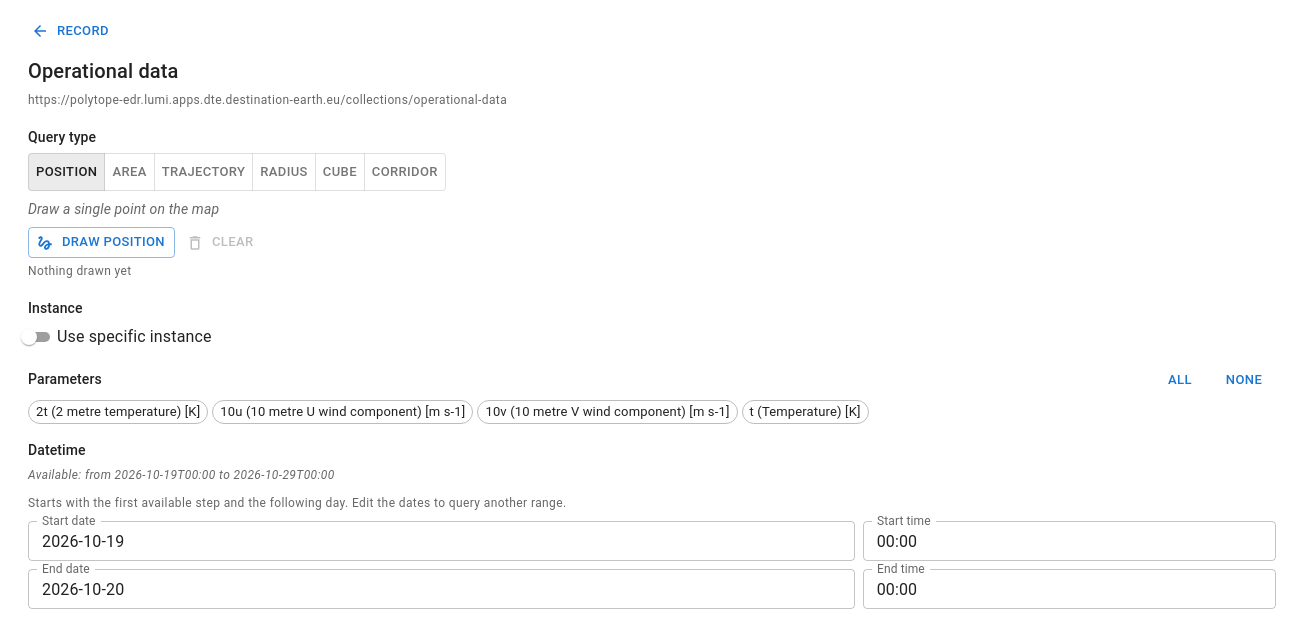
EDR page › pressure-level parameters ask for a level and add z
Click the button "Draw position" at (101, 243), box left=28, top=228, right=175, bottom=258
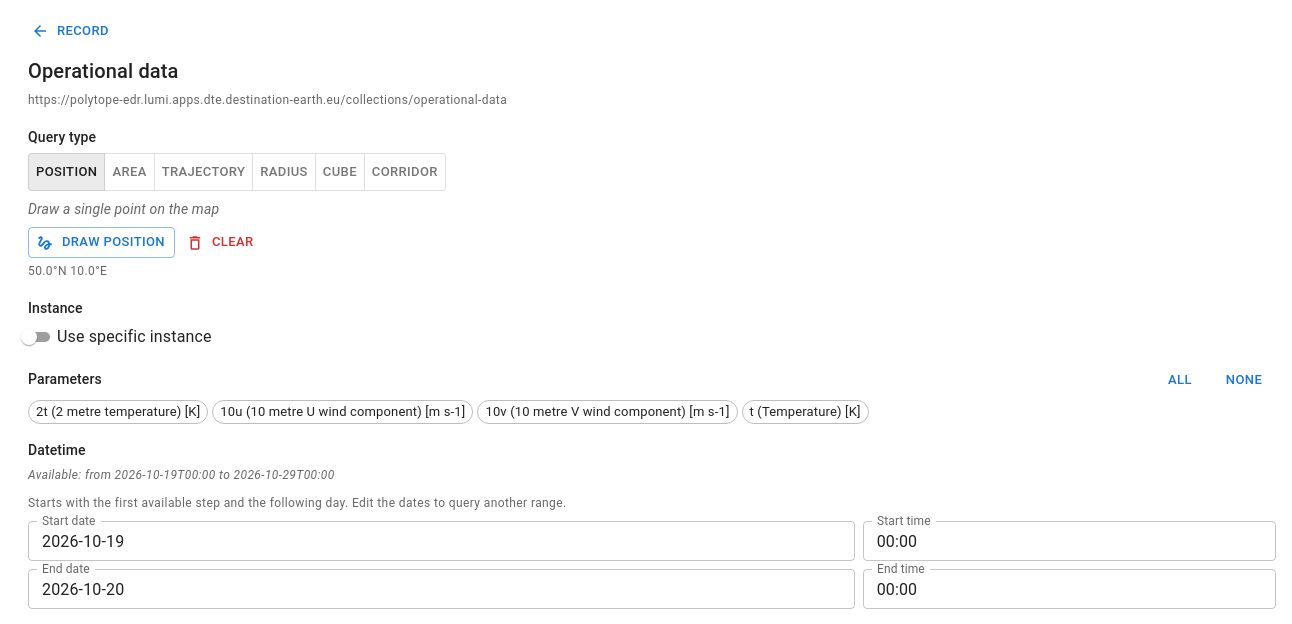
Expected: the text "Vertical level" is not shown
Click the button "t (Temperature) [K]" at (805, 412), box left=742, top=400, right=868, bottom=424
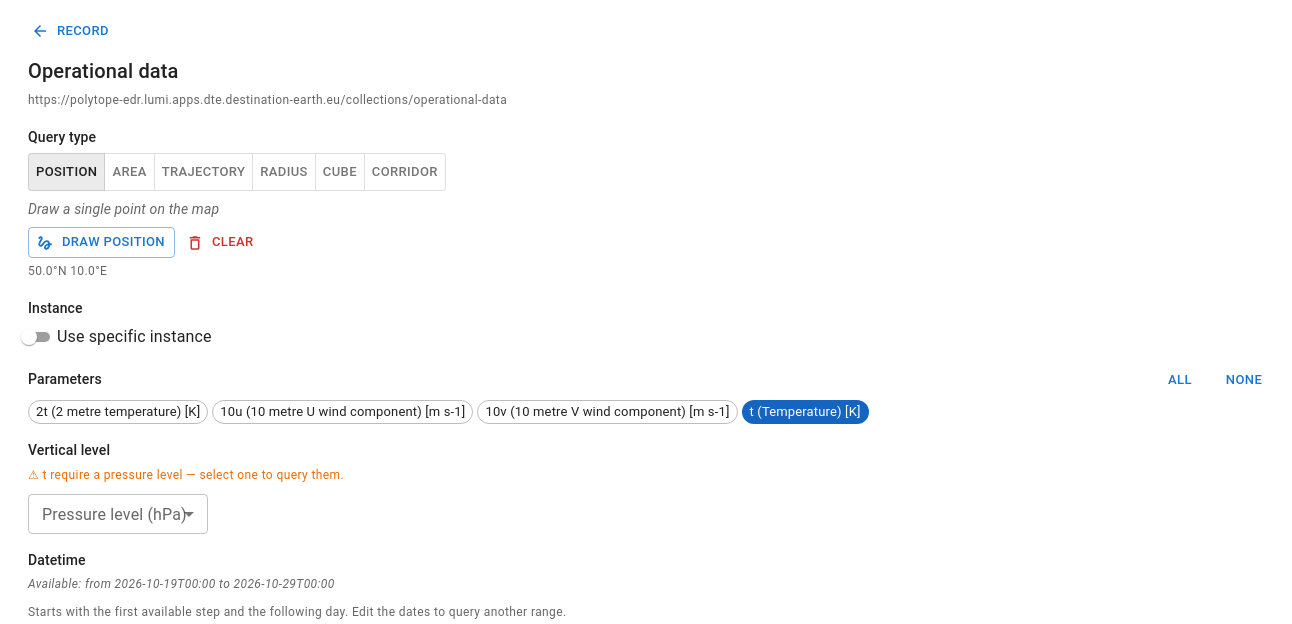
Expected: the text "⚠ t require a pressure level — select one to query them." is shown, left=28, top=468, right=344, bottom=482
Click the dropdown named "Pressure level (hPa)" at (118, 514), box left=28, top=494, right=208, bottom=534
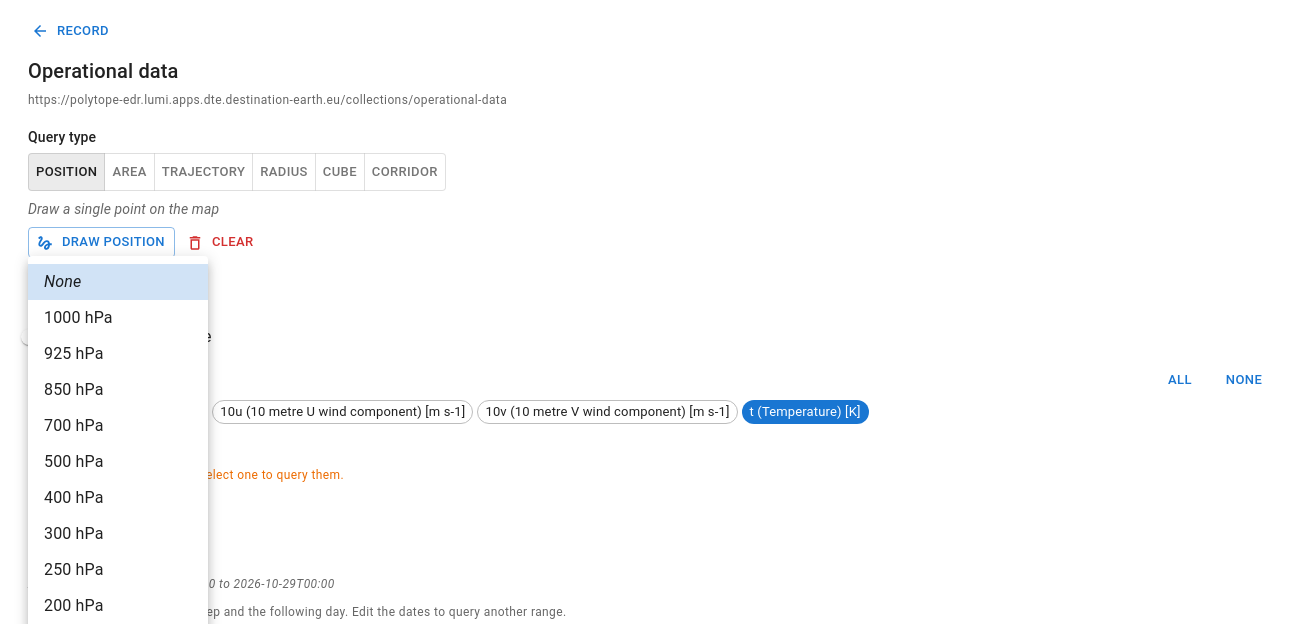
Click the option "850 hPa" at (74, 390), box left=44, top=380, right=104, bottom=399
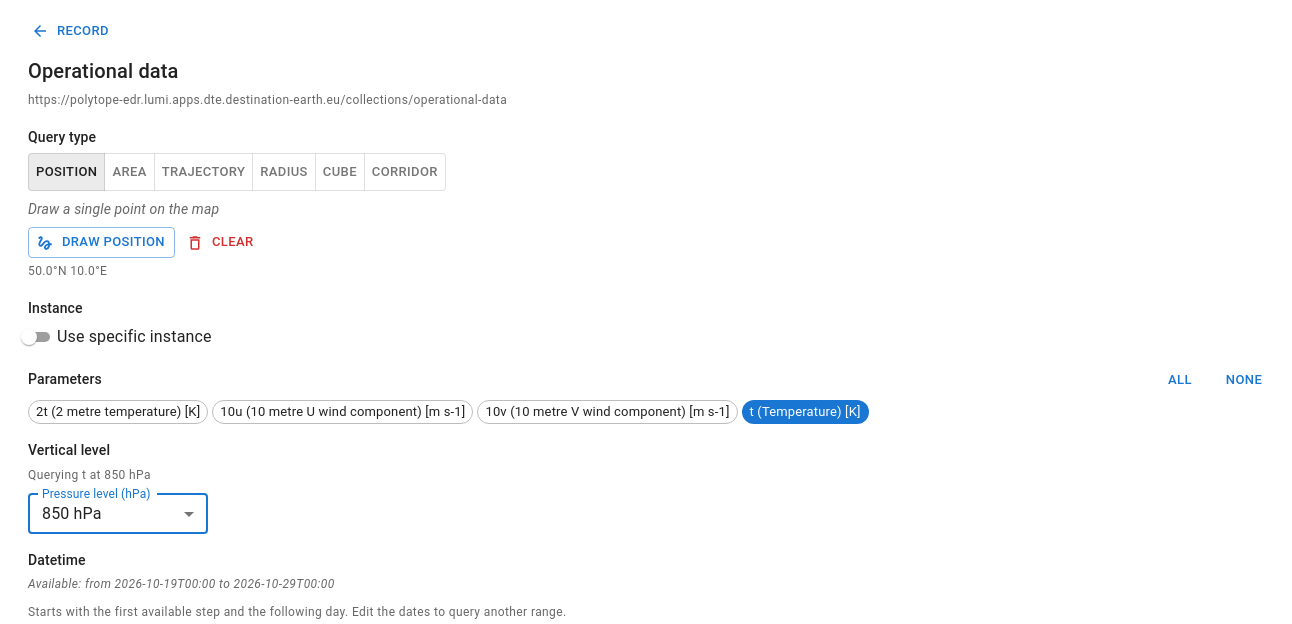
Expected: the text "Querying t at 850 hPa" is shown, left=28, top=468, right=151, bottom=482
